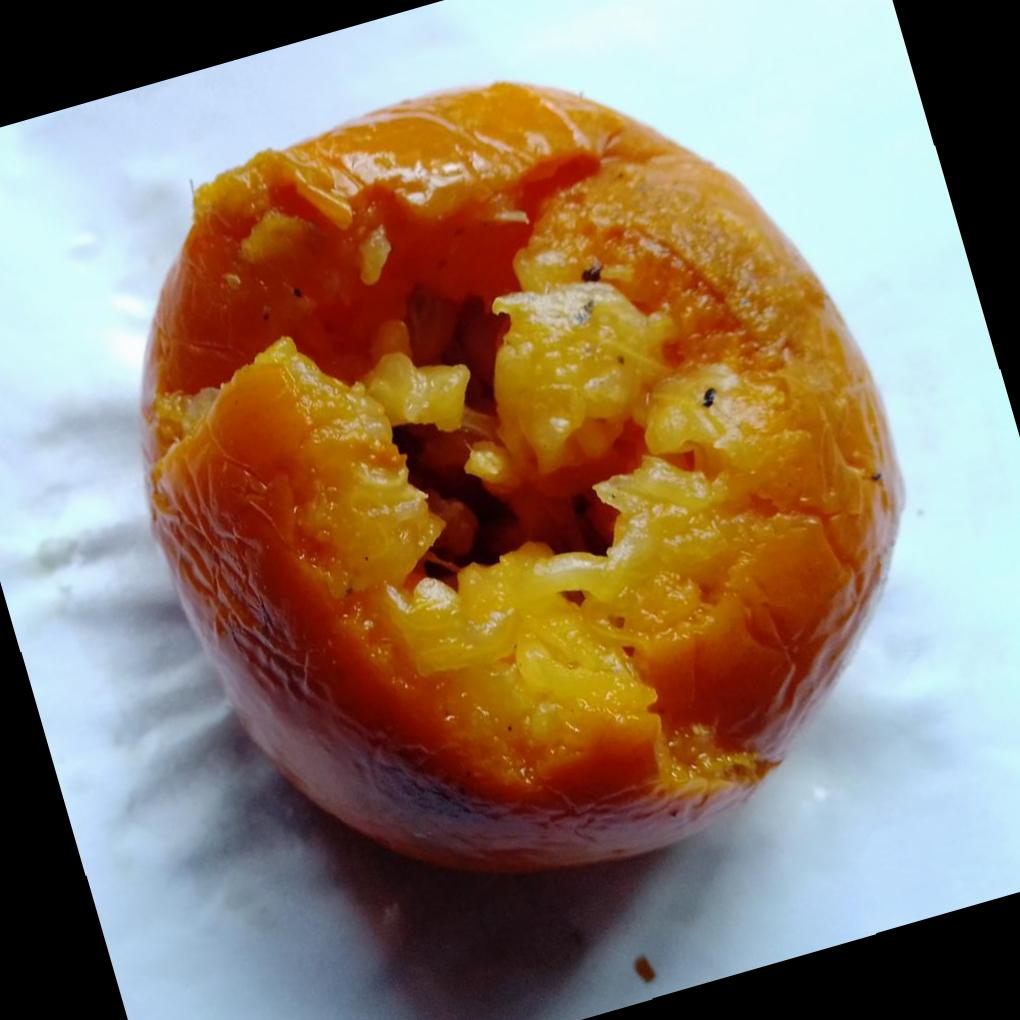FreshOrange: (139, 77, 907, 876)
